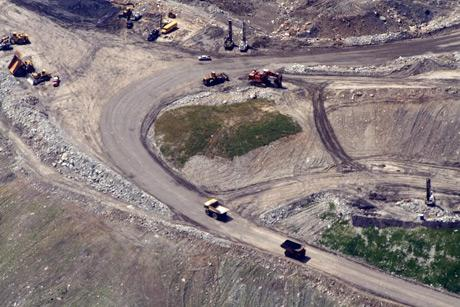ExcavationMachinery: (249, 69, 283, 88), (203, 198, 231, 221), (280, 237, 306, 259), (3, 51, 29, 70), (239, 19, 252, 51), (223, 18, 236, 49), (26, 69, 51, 85), (203, 71, 230, 85), (423, 179, 436, 205), (8, 28, 28, 42)
Vehicle: (160, 19, 178, 31), (51, 75, 59, 86), (198, 53, 210, 60), (134, 11, 141, 19), (127, 21, 133, 29), (124, 7, 130, 13)
